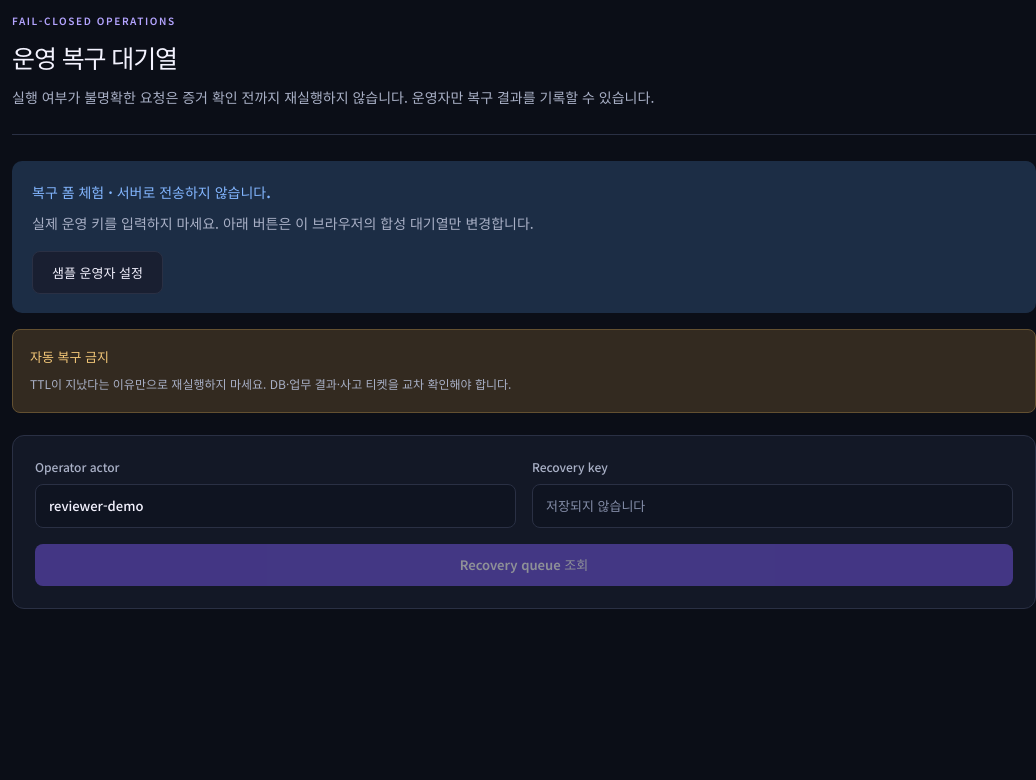
Test: recovery notices › groups both simulated-mode notices and preserves the sample operator action
Expected: the text "복구 폼 체험 · 서버로 전송하지 않습니다." is shown, x1=32 y1=182 x2=271 y2=202
Expected: the text "자동 복구 금지" is shown, x1=30 y1=347 x2=109 y2=366
Step 1. Click the button "샘플 운영자 설정" → [98, 272], box x1=32 y1=251 x2=163 y2=294
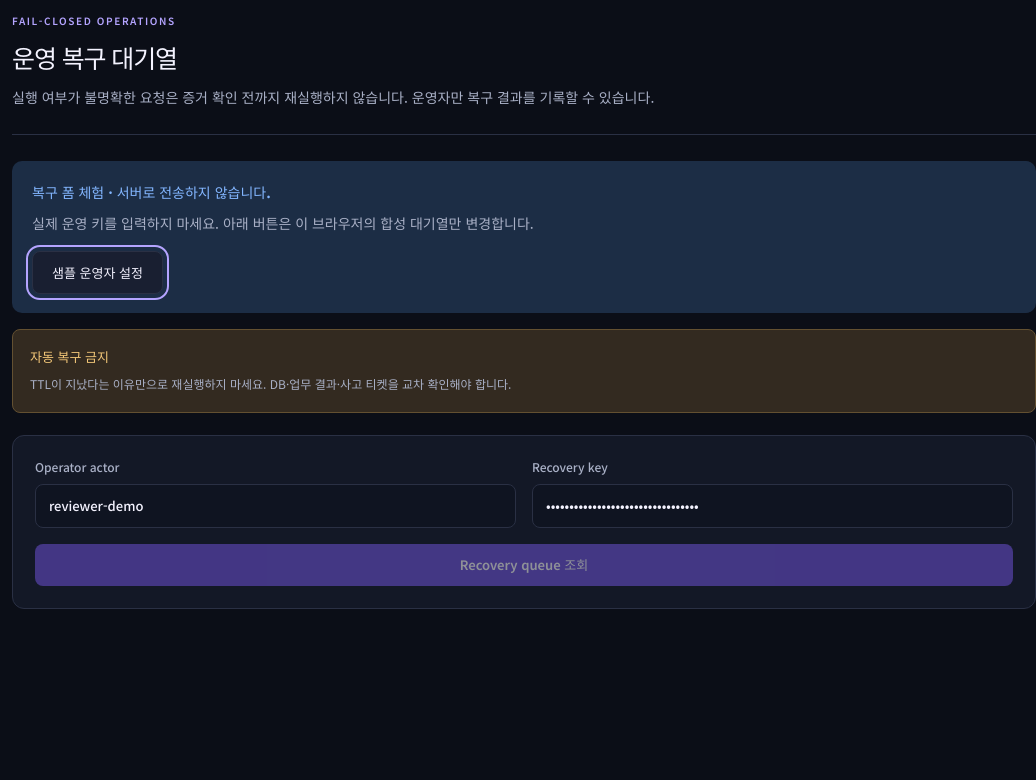
Now the password field labelled "Recovery key" holds "demo-only-not-a-real-recovery-key", box x1=532 y1=484 x2=1013 y2=528
